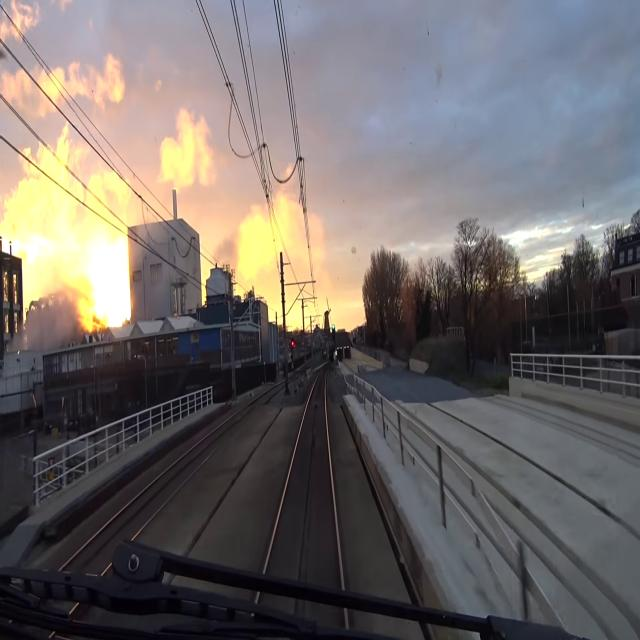rail-track: (70, 395, 267, 569), (269, 373, 339, 581)
